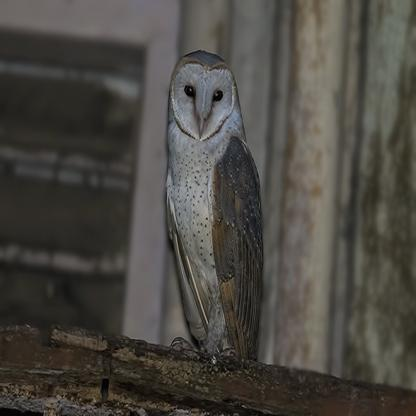Burung: (164, 51, 261, 364)
